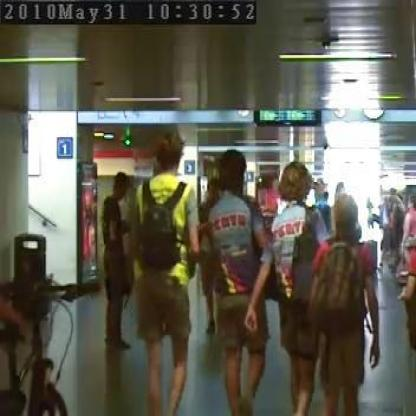other: (128, 171, 210, 287)
